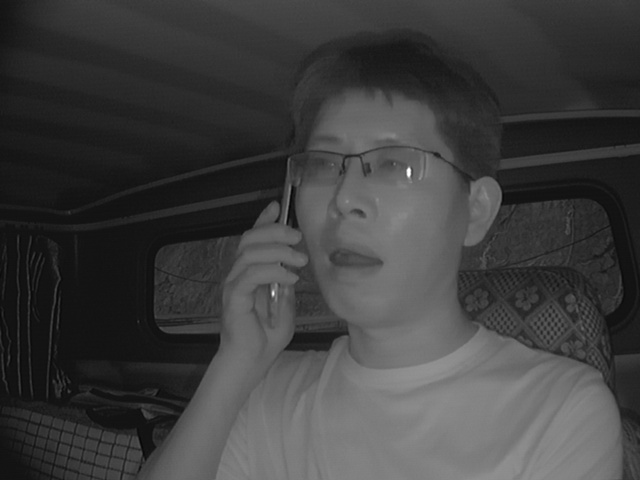hand: (211, 203, 306, 355)
